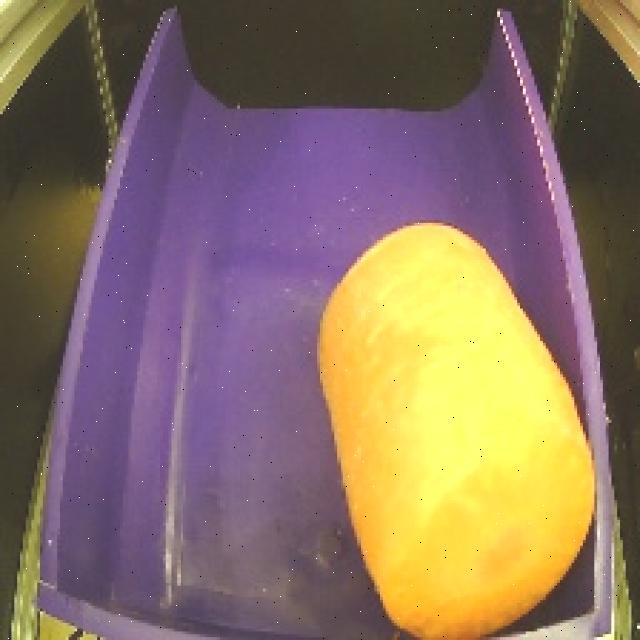carrots: (298, 211, 604, 640)
